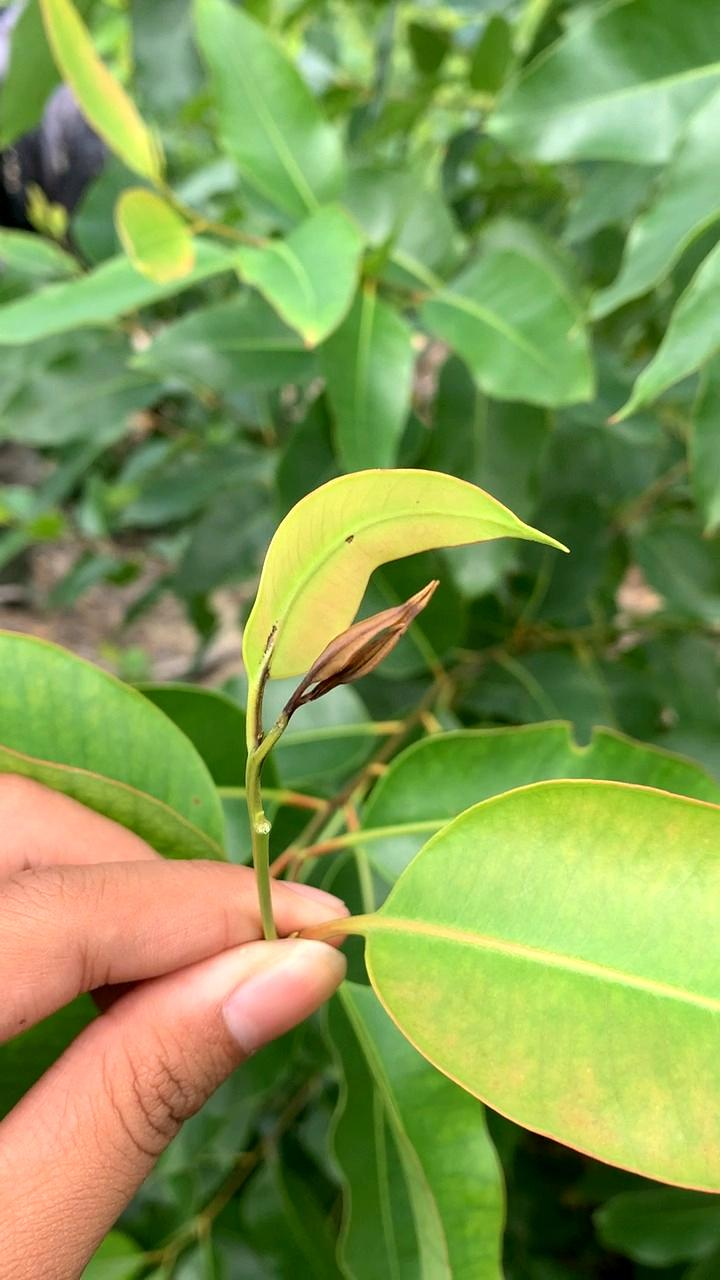Helopeltis-Withered Sprout: (270, 579, 447, 725)
